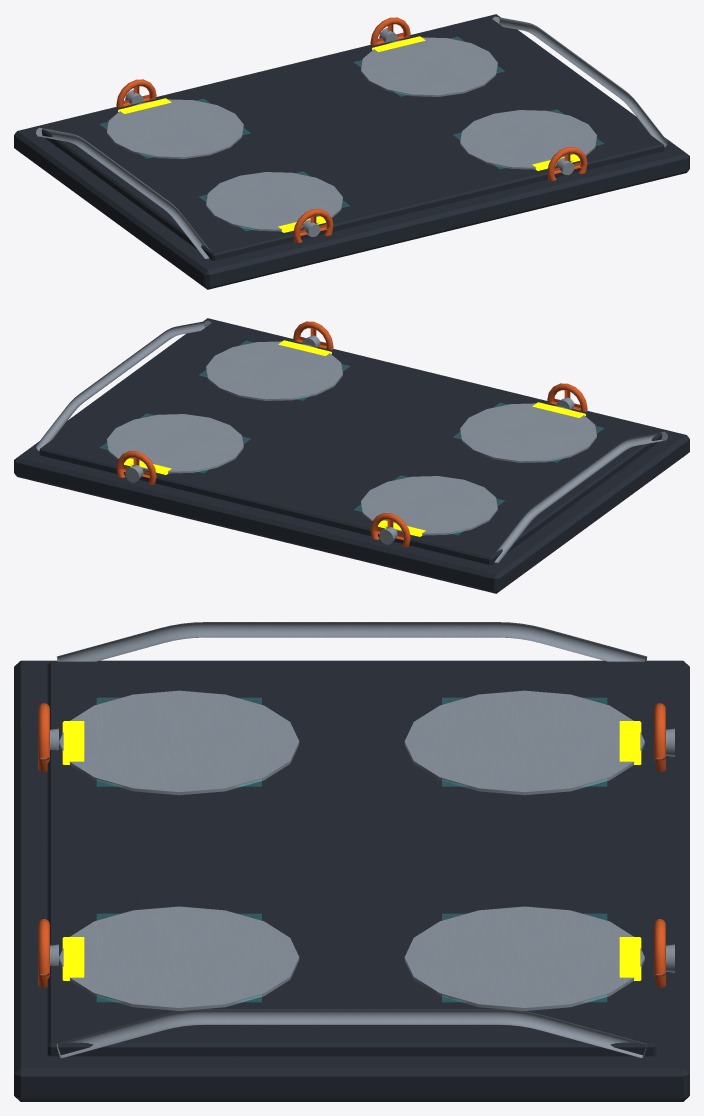
The model's file is cargo_mag_pallet_deck.glb.
3 views of the same model, one above another, from view 1: azimuth 30°, elevation 25°; view 2: azimuth 150°, elevation 25°; view 3: azimuth 270°, elevation 25° (orthographic). The views are drawn at different scales.
Visible parts, largest first — view 1: MagPallet_CarbonSlateSkid, MagPallet_MachinedLockRingsAndRails, MagPallet_SignalOrangeTieDownWinches, MagPallet_AmberCornerLockBeacons; view 2: MagPallet_CarbonSlateSkid, MagPallet_MachinedLockRingsAndRails, MagPallet_SignalOrangeTieDownWinches, MagPallet_AmberCornerLockBeacons; view 3: MagPallet_CarbonSlateSkid, MagPallet_MachinedLockRingsAndRails, MagPallet_AmberCornerLockBeacons, MagPallet_SignalOrangeTieDownWinches, MagPallet_TranslucentSensorDeckPorts.
Part boxes in pixels (box(x1,y1,x2,y2)): MagPallet_CarbonSlateSkid: box(14, 14, 689, 289); MagPallet_MachinedLockRingsAndRails: box(36, 16, 667, 258); MagPallet_SignalOrangeTieDownWinches: box(116, 17, 587, 242); MagPallet_AmberCornerLockBeacons: box(118, 36, 579, 232); MagPallet_CarbonSlateSkid: box(14, 318, 689, 593); MagPallet_MachinedLockRingsAndRails: box(36, 320, 667, 562); MagPallet_SignalOrangeTieDownWinches: box(116, 321, 587, 546); MagPallet_AmberCornerLockBeacons: box(124, 340, 585, 536); MagPallet_CarbonSlateSkid: box(14, 660, 689, 1101); MagPallet_MachinedLockRingsAndRails: box(50, 622, 674, 1058); MagPallet_AmberCornerLockBeacons: box(62, 721, 641, 980); MagPallet_SignalOrangeTieDownWinches: box(38, 703, 665, 987); MagPallet_TranslucentSensorDeckPorts: box(97, 698, 606, 1001).
Size of the model in its own units: 2.6 by 0.2452 by 1.8.
Materials: 6 (6 with a texture image).
